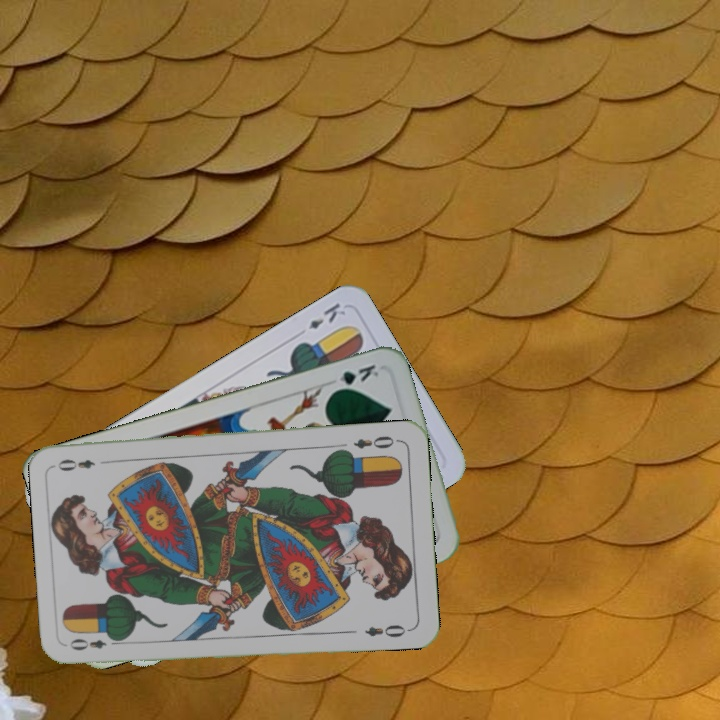EK: (305, 299, 349, 332)
EO: (65, 632, 124, 653), (350, 431, 402, 452)
GK: (327, 360, 382, 395)
